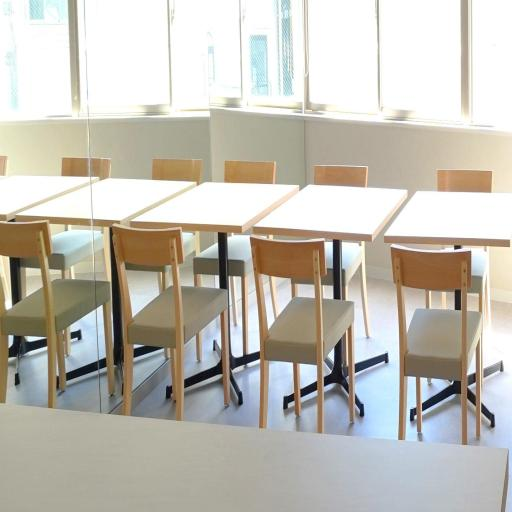table: (24, 148, 189, 411), (254, 152, 406, 423), (133, 156, 298, 402), (380, 177, 512, 438)
